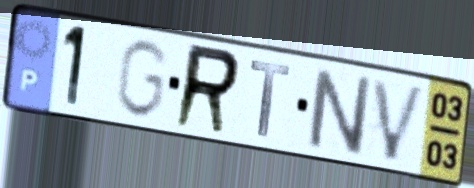1: (57, 22, 90, 113)
G: (112, 36, 172, 121)
N: (305, 64, 373, 159)
R: (170, 40, 244, 139)
T: (248, 57, 292, 141)
V: (370, 76, 430, 166)
